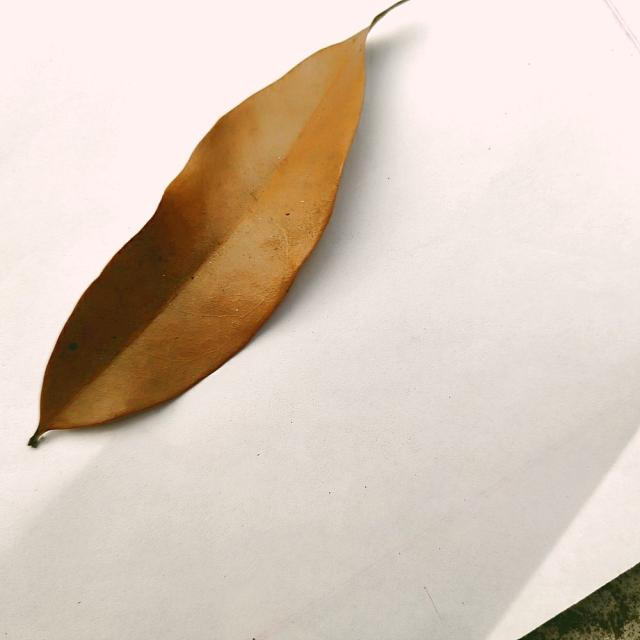Dry_Leaf-Lychee: (29, 29, 369, 455)
